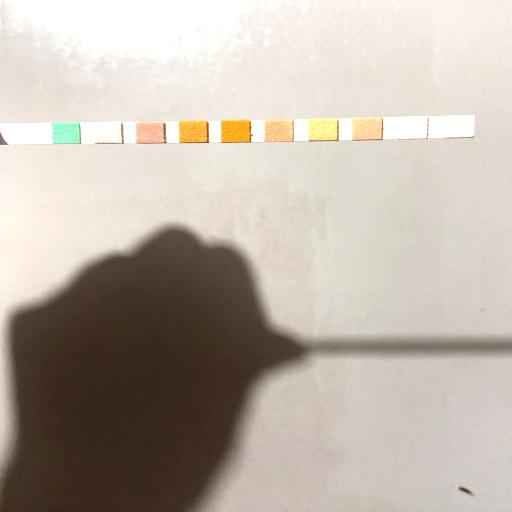Bilirubin: (95, 123, 121, 142)
Blood: (222, 122, 250, 142)
Glucose: (53, 123, 79, 143)
Ketone: (137, 122, 163, 142)
Leukocytes: (445, 116, 473, 136)
Nitrite: (398, 118, 426, 138)
Protein: (309, 120, 337, 140)
SpGravity: (180, 122, 206, 142)
Urobilinogen: (353, 118, 381, 138)
pH: (265, 121, 293, 141)
strip: (0, 116, 473, 145)
